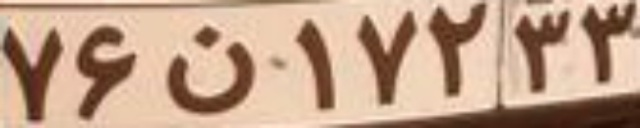1: (295, 20, 338, 109)
2: (425, 2, 488, 98)
3: (513, 11, 570, 93), (581, 1, 638, 83)
6: (75, 23, 134, 120)
7: (0, 25, 63, 121), (354, 11, 417, 105)
non: (161, 24, 257, 113)
